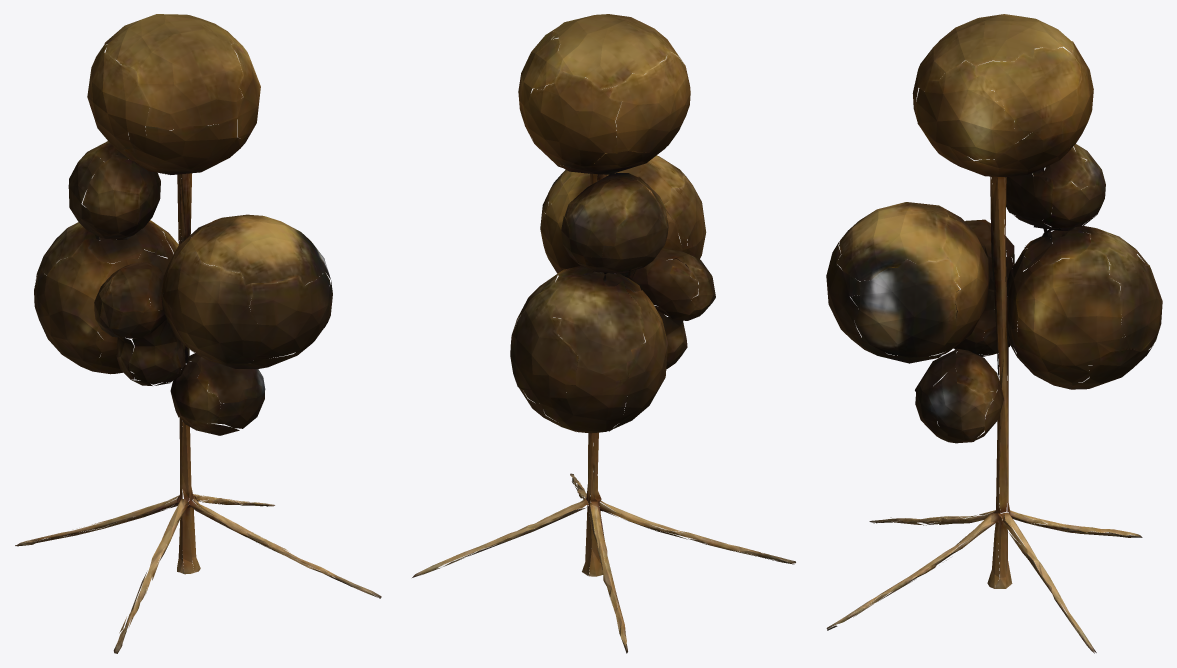
Rendered from j-lampe-spheres.glb.
The picture shows the model from 3 angles, left to right: view 1: azimuth 30°, elevation 25°; view 2: azimuth 150°, elevation 25°; view 3: azimuth 270°, elevation 25°; orthographic projection.
Parts seen in each view (by area): view 1: geometry_0; view 2: geometry_0; view 3: geometry_0.
Part boxes in pixels (bbox=[...]): geometry_0: bbox=[15, 14, 381, 653]; geometry_0: bbox=[412, 14, 795, 653]; geometry_0: bbox=[826, 14, 1162, 653].
Bounding box in the file's own units: 0.5161 × 1 × 0.5458.
1 material, 1 textured.
